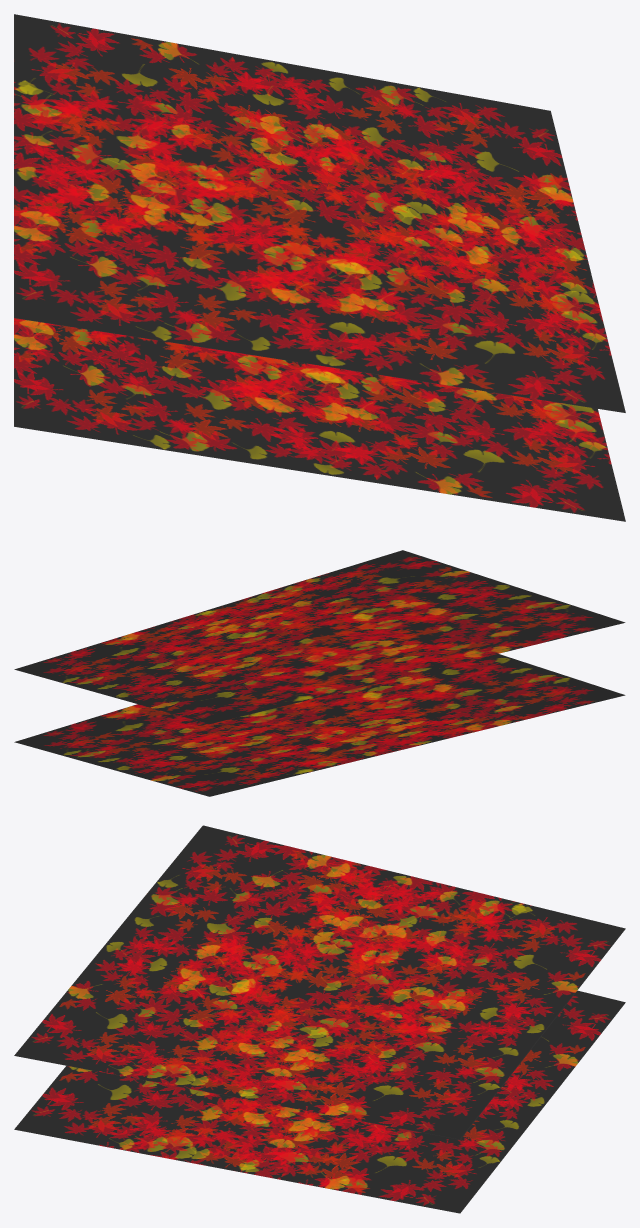
Rendered from OBJ_CourseAki_CurveFloor_3_36.fbx.
3 renders of one model, top to bottom at view 1: azimuth 30°, elevation 25°; view 2: azimuth 150°, elevation 25°; view 3: azimuth 270°, elevation 25°, orthographic. The views are drawn at different scales.
Parts seen in each view (by area): view 1: polySurface239, polySurface235; view 2: polySurface239, polySurface235; view 3: polySurface239, polySurface235.
Boxes of the visible parts, box(x1,y1,x2,y2) form: polySurface239: box(14, 14, 625, 412); polySurface235: box(14, 318, 625, 521); polySurface239: box(14, 550, 625, 724); polySurface235: box(14, 654, 625, 796); polySurface239: box(14, 825, 625, 1139); polySurface235: box(14, 990, 625, 1213).
Size of the model in its own units: 7 by 2 by 7.52.
Materials: 1 (1 with a texture image).
